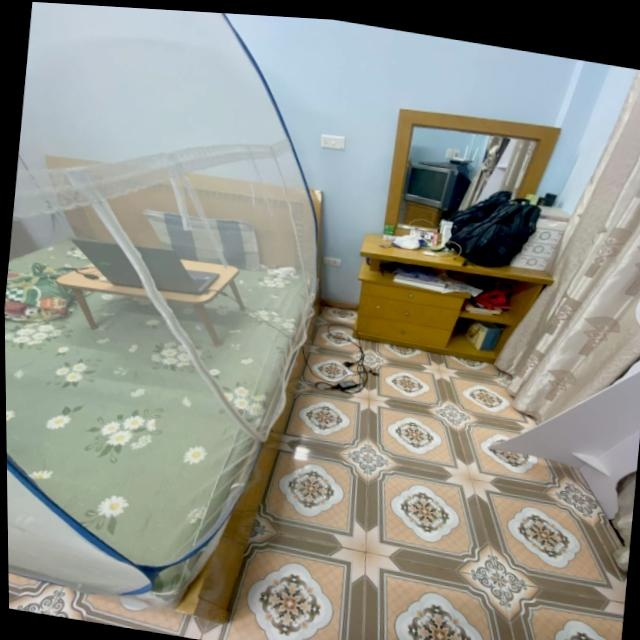outlet: (322, 256, 341, 267)
